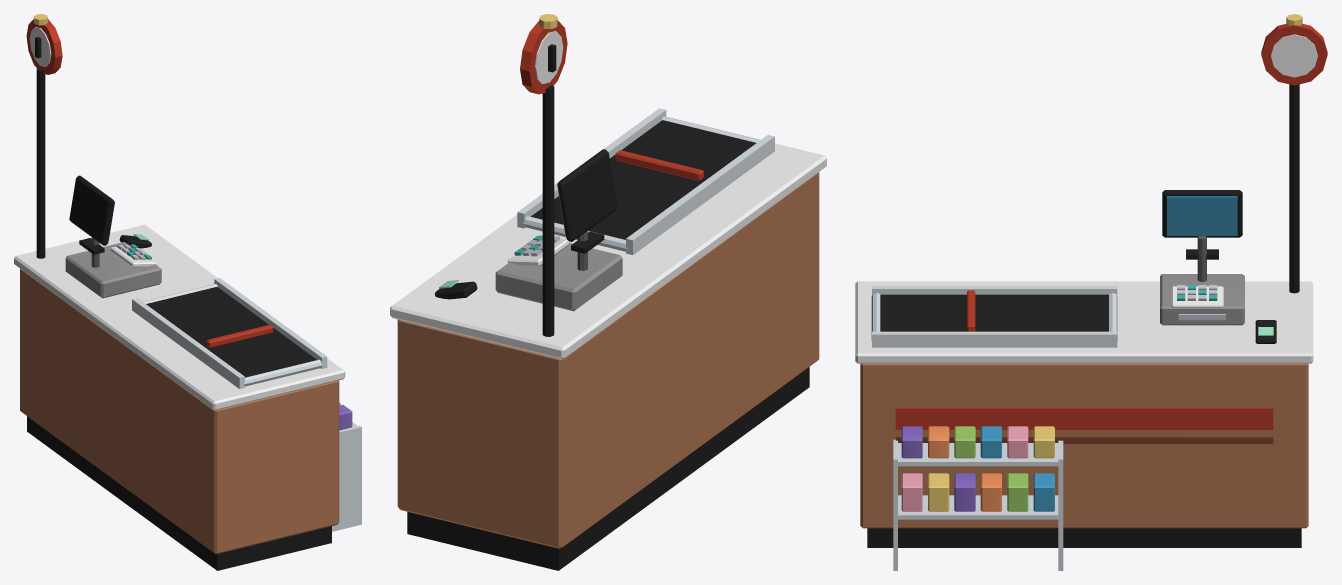
The model's file is SM_Build_SM_Store_Checkout_01.fbx.
The picture shows the model from 3 angles, left to right: view 1: azimuth 30°, elevation 25°; view 2: azimuth 150°, elevation 25°; view 3: azimuth 270°, elevation 25°; orthographic projection. The views are drawn at different scales.
Visible parts, largest first — view 1: SM_Store_Checkout_01; view 2: SM_Store_Checkout_01; view 3: SM_Store_Checkout_01.
Boxes of the visible parts, bbox=[...] form: SM_Store_Checkout_01: bbox=[14, 14, 361, 570]; SM_Store_Checkout_01: bbox=[390, 14, 826, 570]; SM_Store_Checkout_01: bbox=[855, 14, 1327, 570].
Size of the model in its own units: 0.92 by 2.21 by 2.
